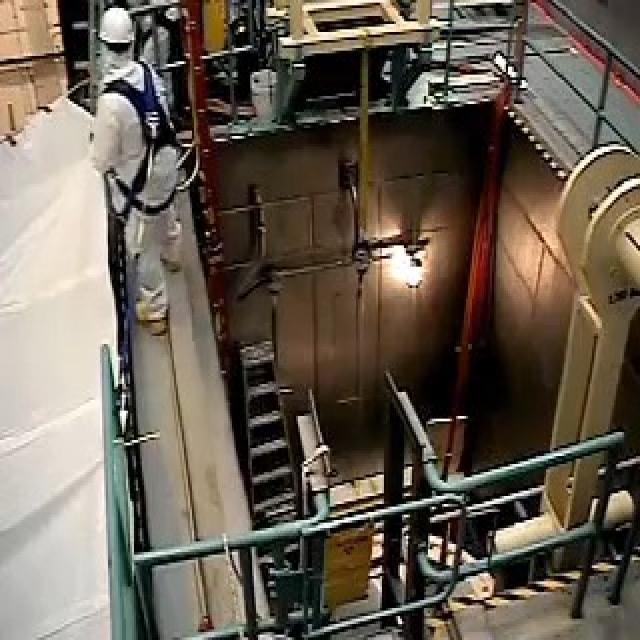belt: (92, 62, 182, 226), (1, 129, 2, 131)
